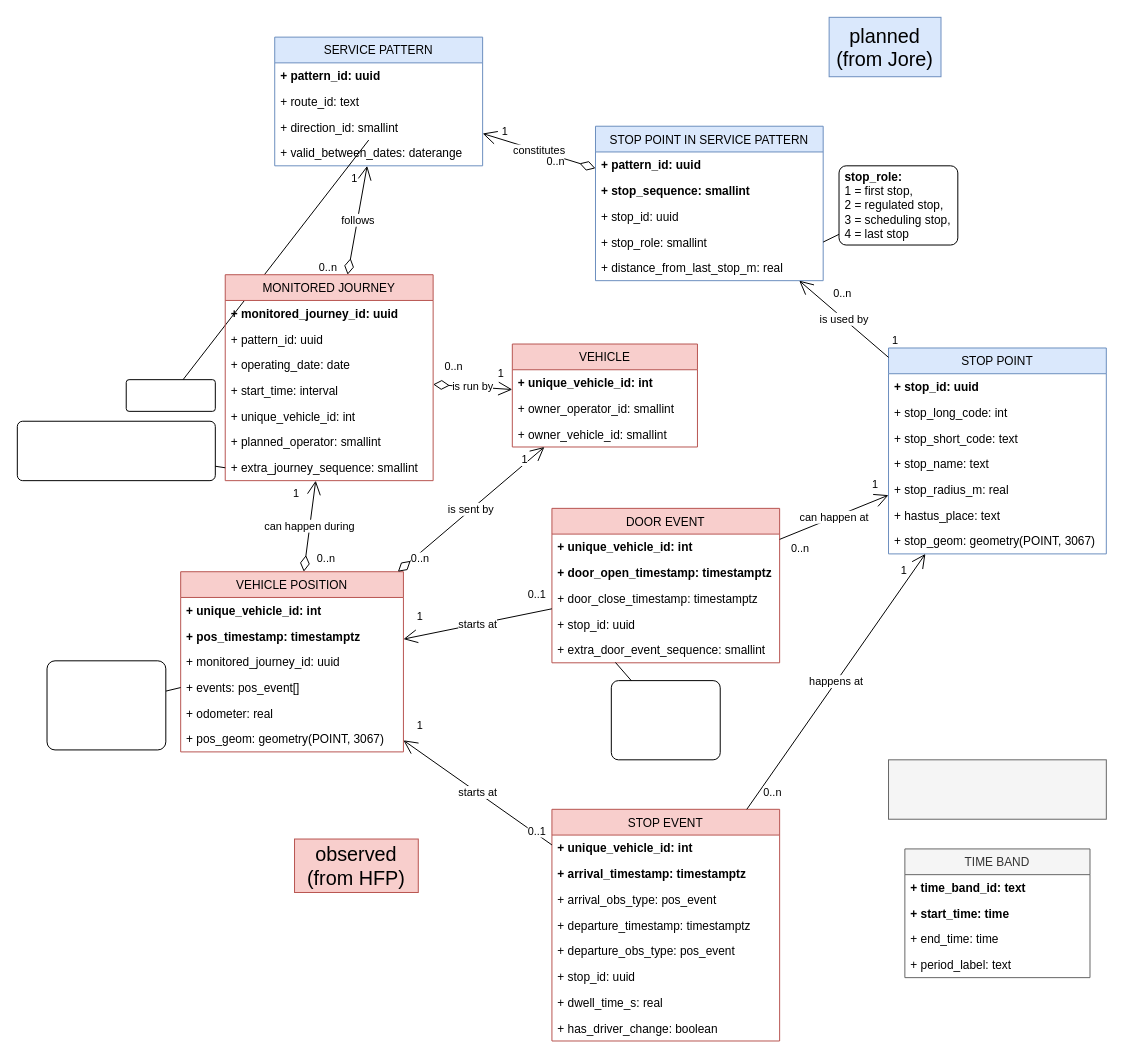
This 1124x1061 diagram has some shape labels left out. The centre of each missing label's shape, as x and y in pixels:
direction_id: {1 | 2}: (x=170, y=395)
extra d. e. seq.: >= 2 if multiple door events within same stop event; else NULL: (x=665, y=720)
extra_journey_sequence: >= 2 if multiple runs of same DATED JOURNEY; else NULL: (x=115, y=450)
general (reusable components): (x=997, y=789)
pos_event enum values: HFP event types, except VP, and post-calculated events: (x=106, y=705)
